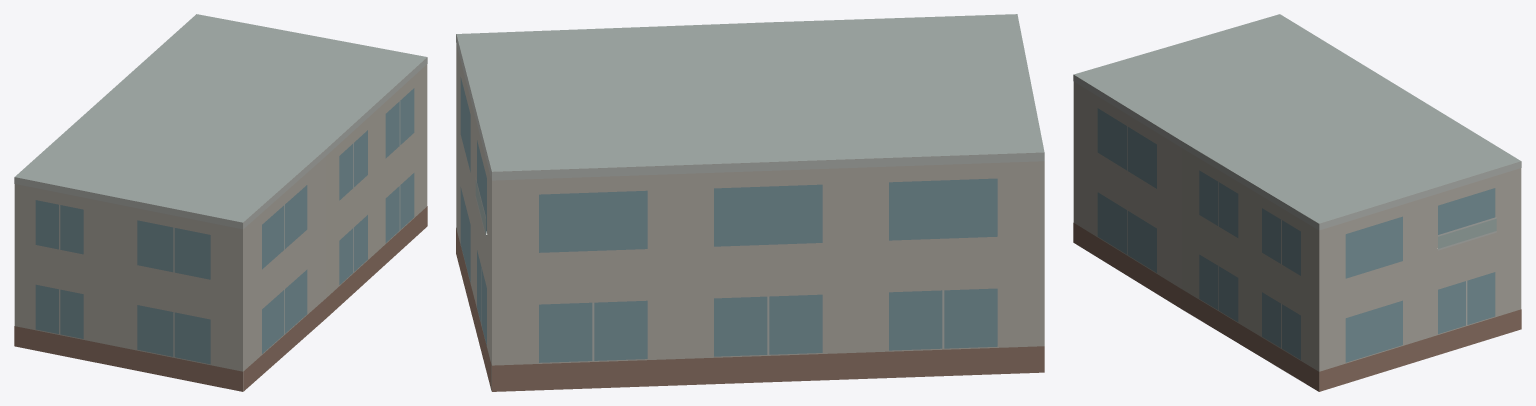
File: survey-upis-32674738.glb
3 renders of one model, left to right at view 1: azimuth 30°, elevation 25°; view 2: azimuth 150°, elevation 25°; view 3: azimuth 270°, elevation 25°, orthographic. The views are drawn at different scales.
Parts seen in each view (by area): view 1: survey-upis-32674738.tmp; view 2: survey-upis-32674738.tmp; view 3: survey-upis-32674738.tmp.
Boxes of the visible parts, x1,y1,x2,y2 form: survey-upis-32674738.tmp: (14, 14, 427, 391); survey-upis-32674738.tmp: (456, 14, 1044, 391); survey-upis-32674738.tmp: (1073, 14, 1521, 391).
Bounding box in the file's own units: 16.33 × 6.1 × 14.74.
